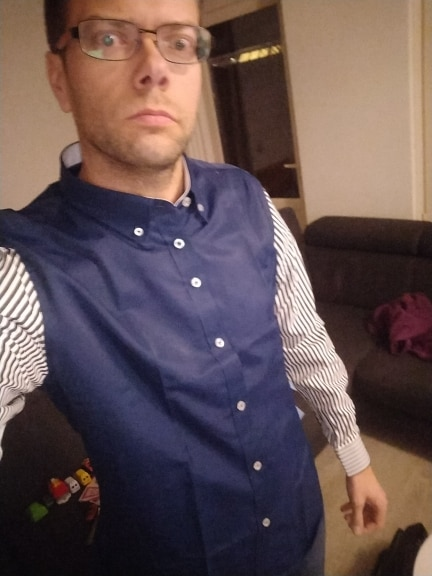shirts: (10, 160, 367, 569)
